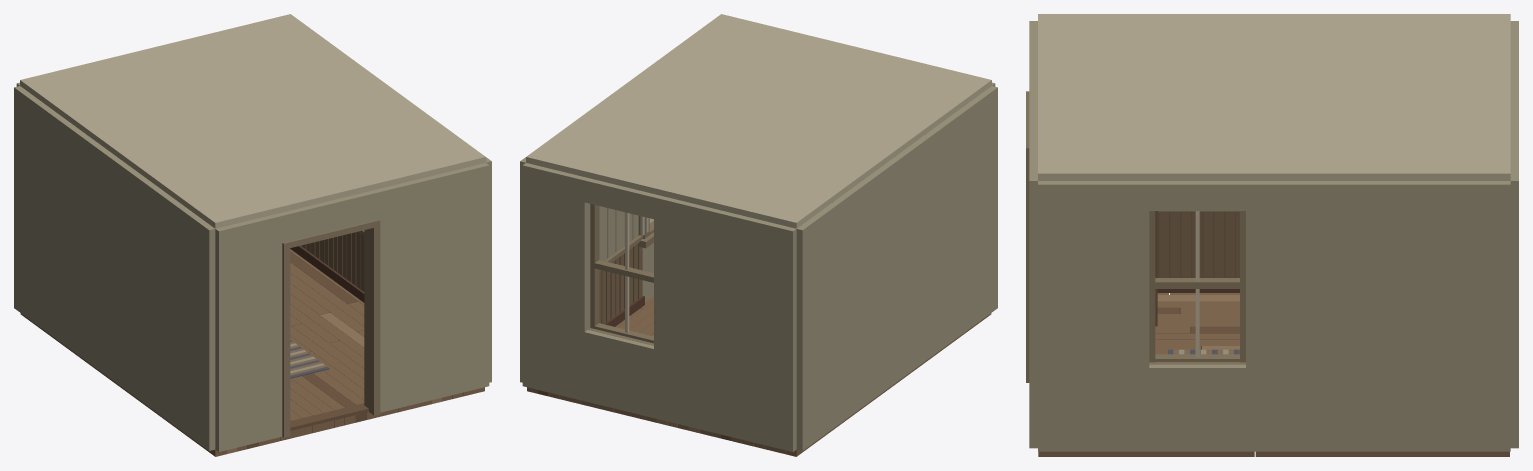
File: hargrove_room04_shell.glb
3 renders of one model, left to right at view 1: azimuth 30°, elevation 25°; view 2: azimuth 150°, elevation 25°; view 3: azimuth 270°, elevation 25°, orthographic. The views are drawn at different scales.
Parts seen in each view (by area): view 1: hargrove_room04_shell; view 2: hargrove_room04_shell; view 3: hargrove_room04_shell.
Part boxes in pixels (bbox=[...]): hargrove_room04_shell: bbox=[14, 14, 491, 456]; hargrove_room04_shell: bbox=[520, 14, 997, 456]; hargrove_room04_shell: bbox=[1026, 14, 1518, 456].
Bounding box in the file's own units: 3.51 × 2.78 × 4.38.
